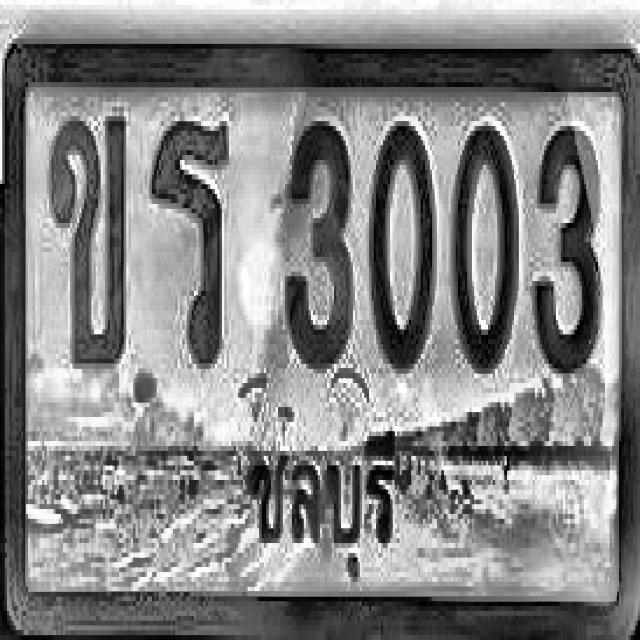license-plate: (2, 39, 640, 640)
